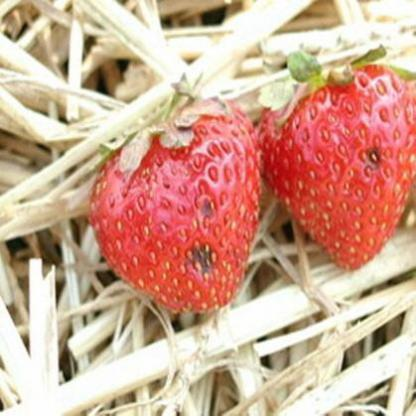Strawberry_Anthracnose_Fruit_Rot: (184, 198, 224, 278), (361, 144, 388, 170)
